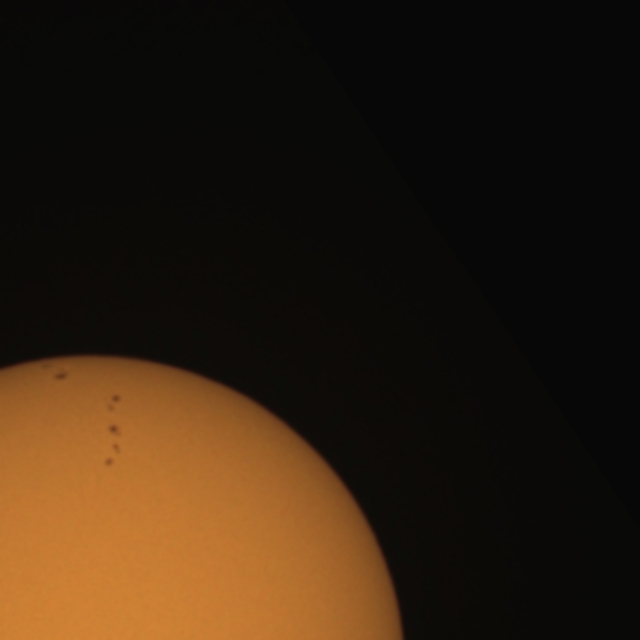sunspot: (101, 432, 124, 471), (104, 392, 123, 416), (106, 420, 122, 442), (52, 369, 70, 384)
